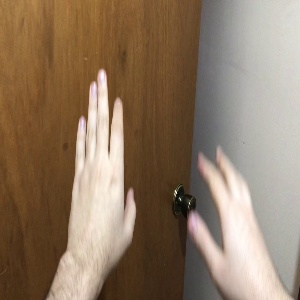hand: (188, 144, 279, 284), (68, 70, 136, 256)
